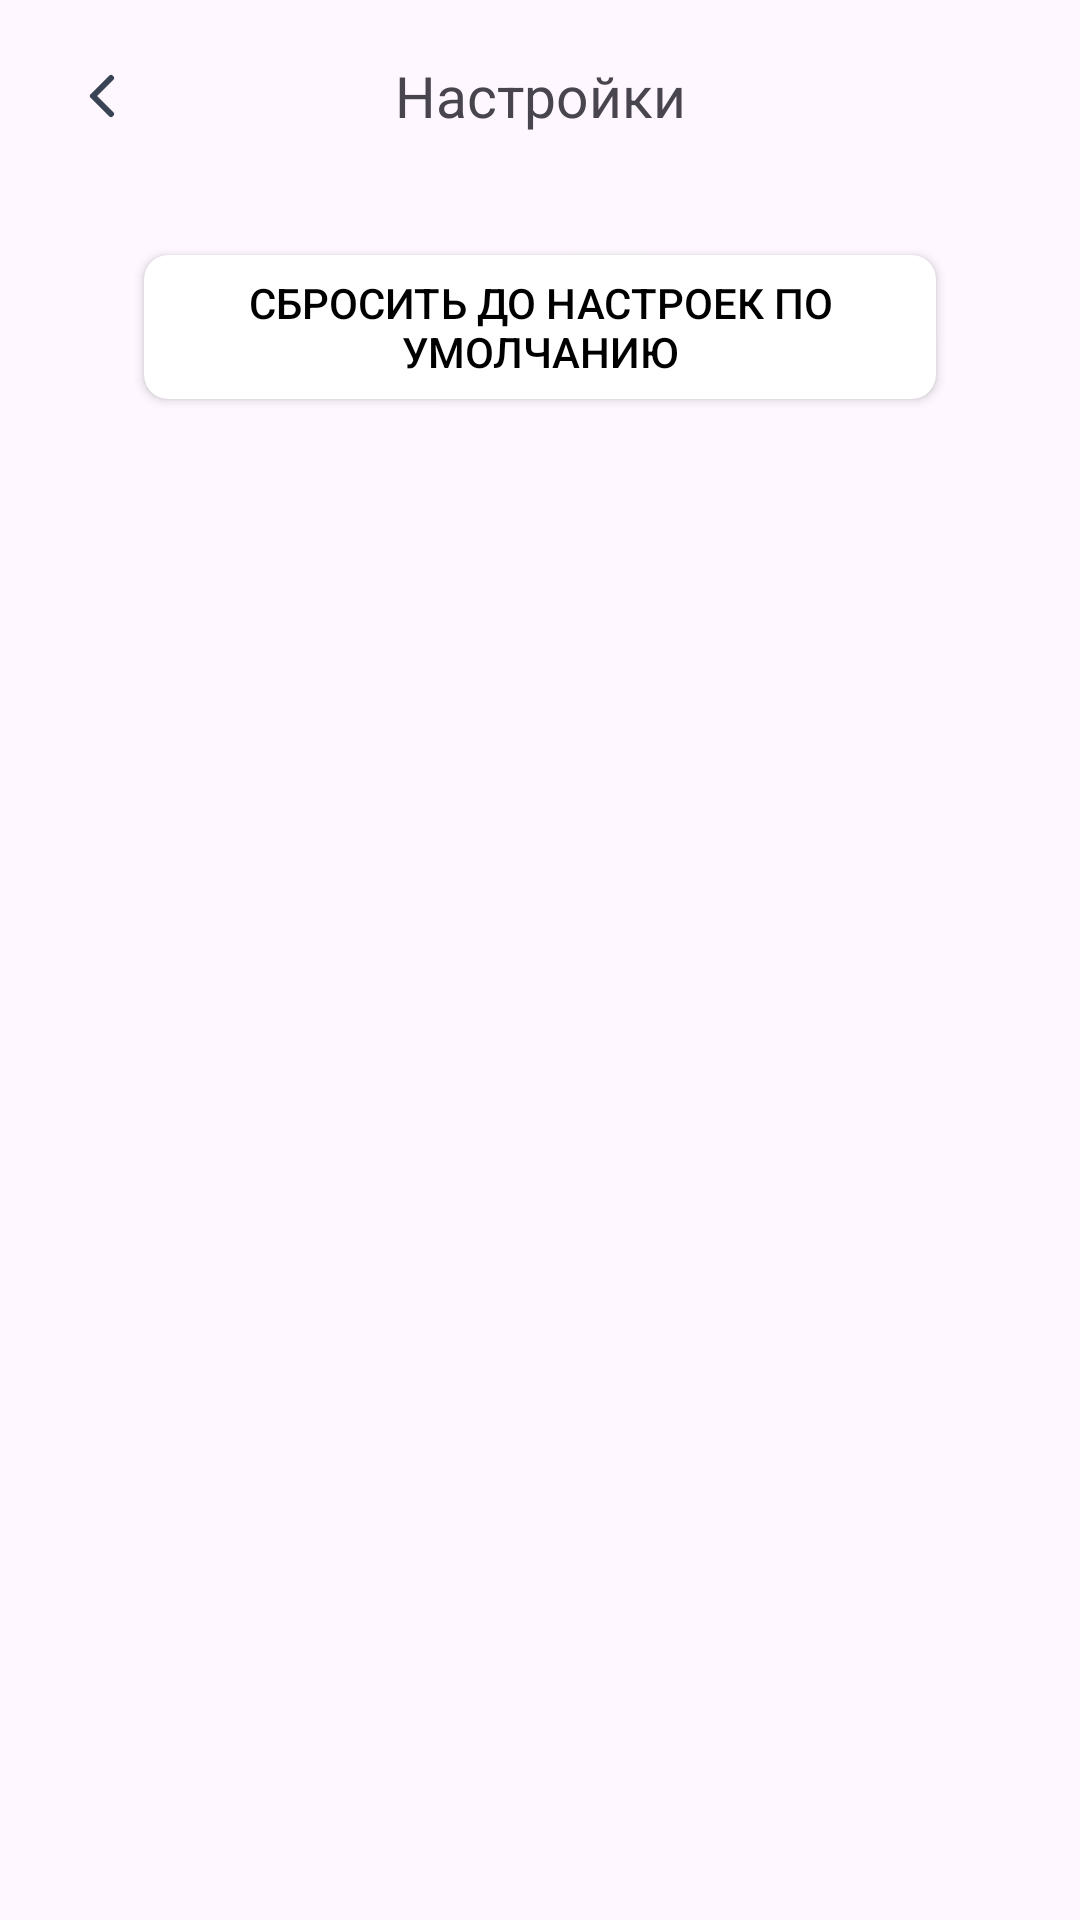

Named icons in this screenshot (1080*1920) and their bounding boxes, [x1, y1, x2, y2]:
back arrow: [90, 75, 114, 117]
